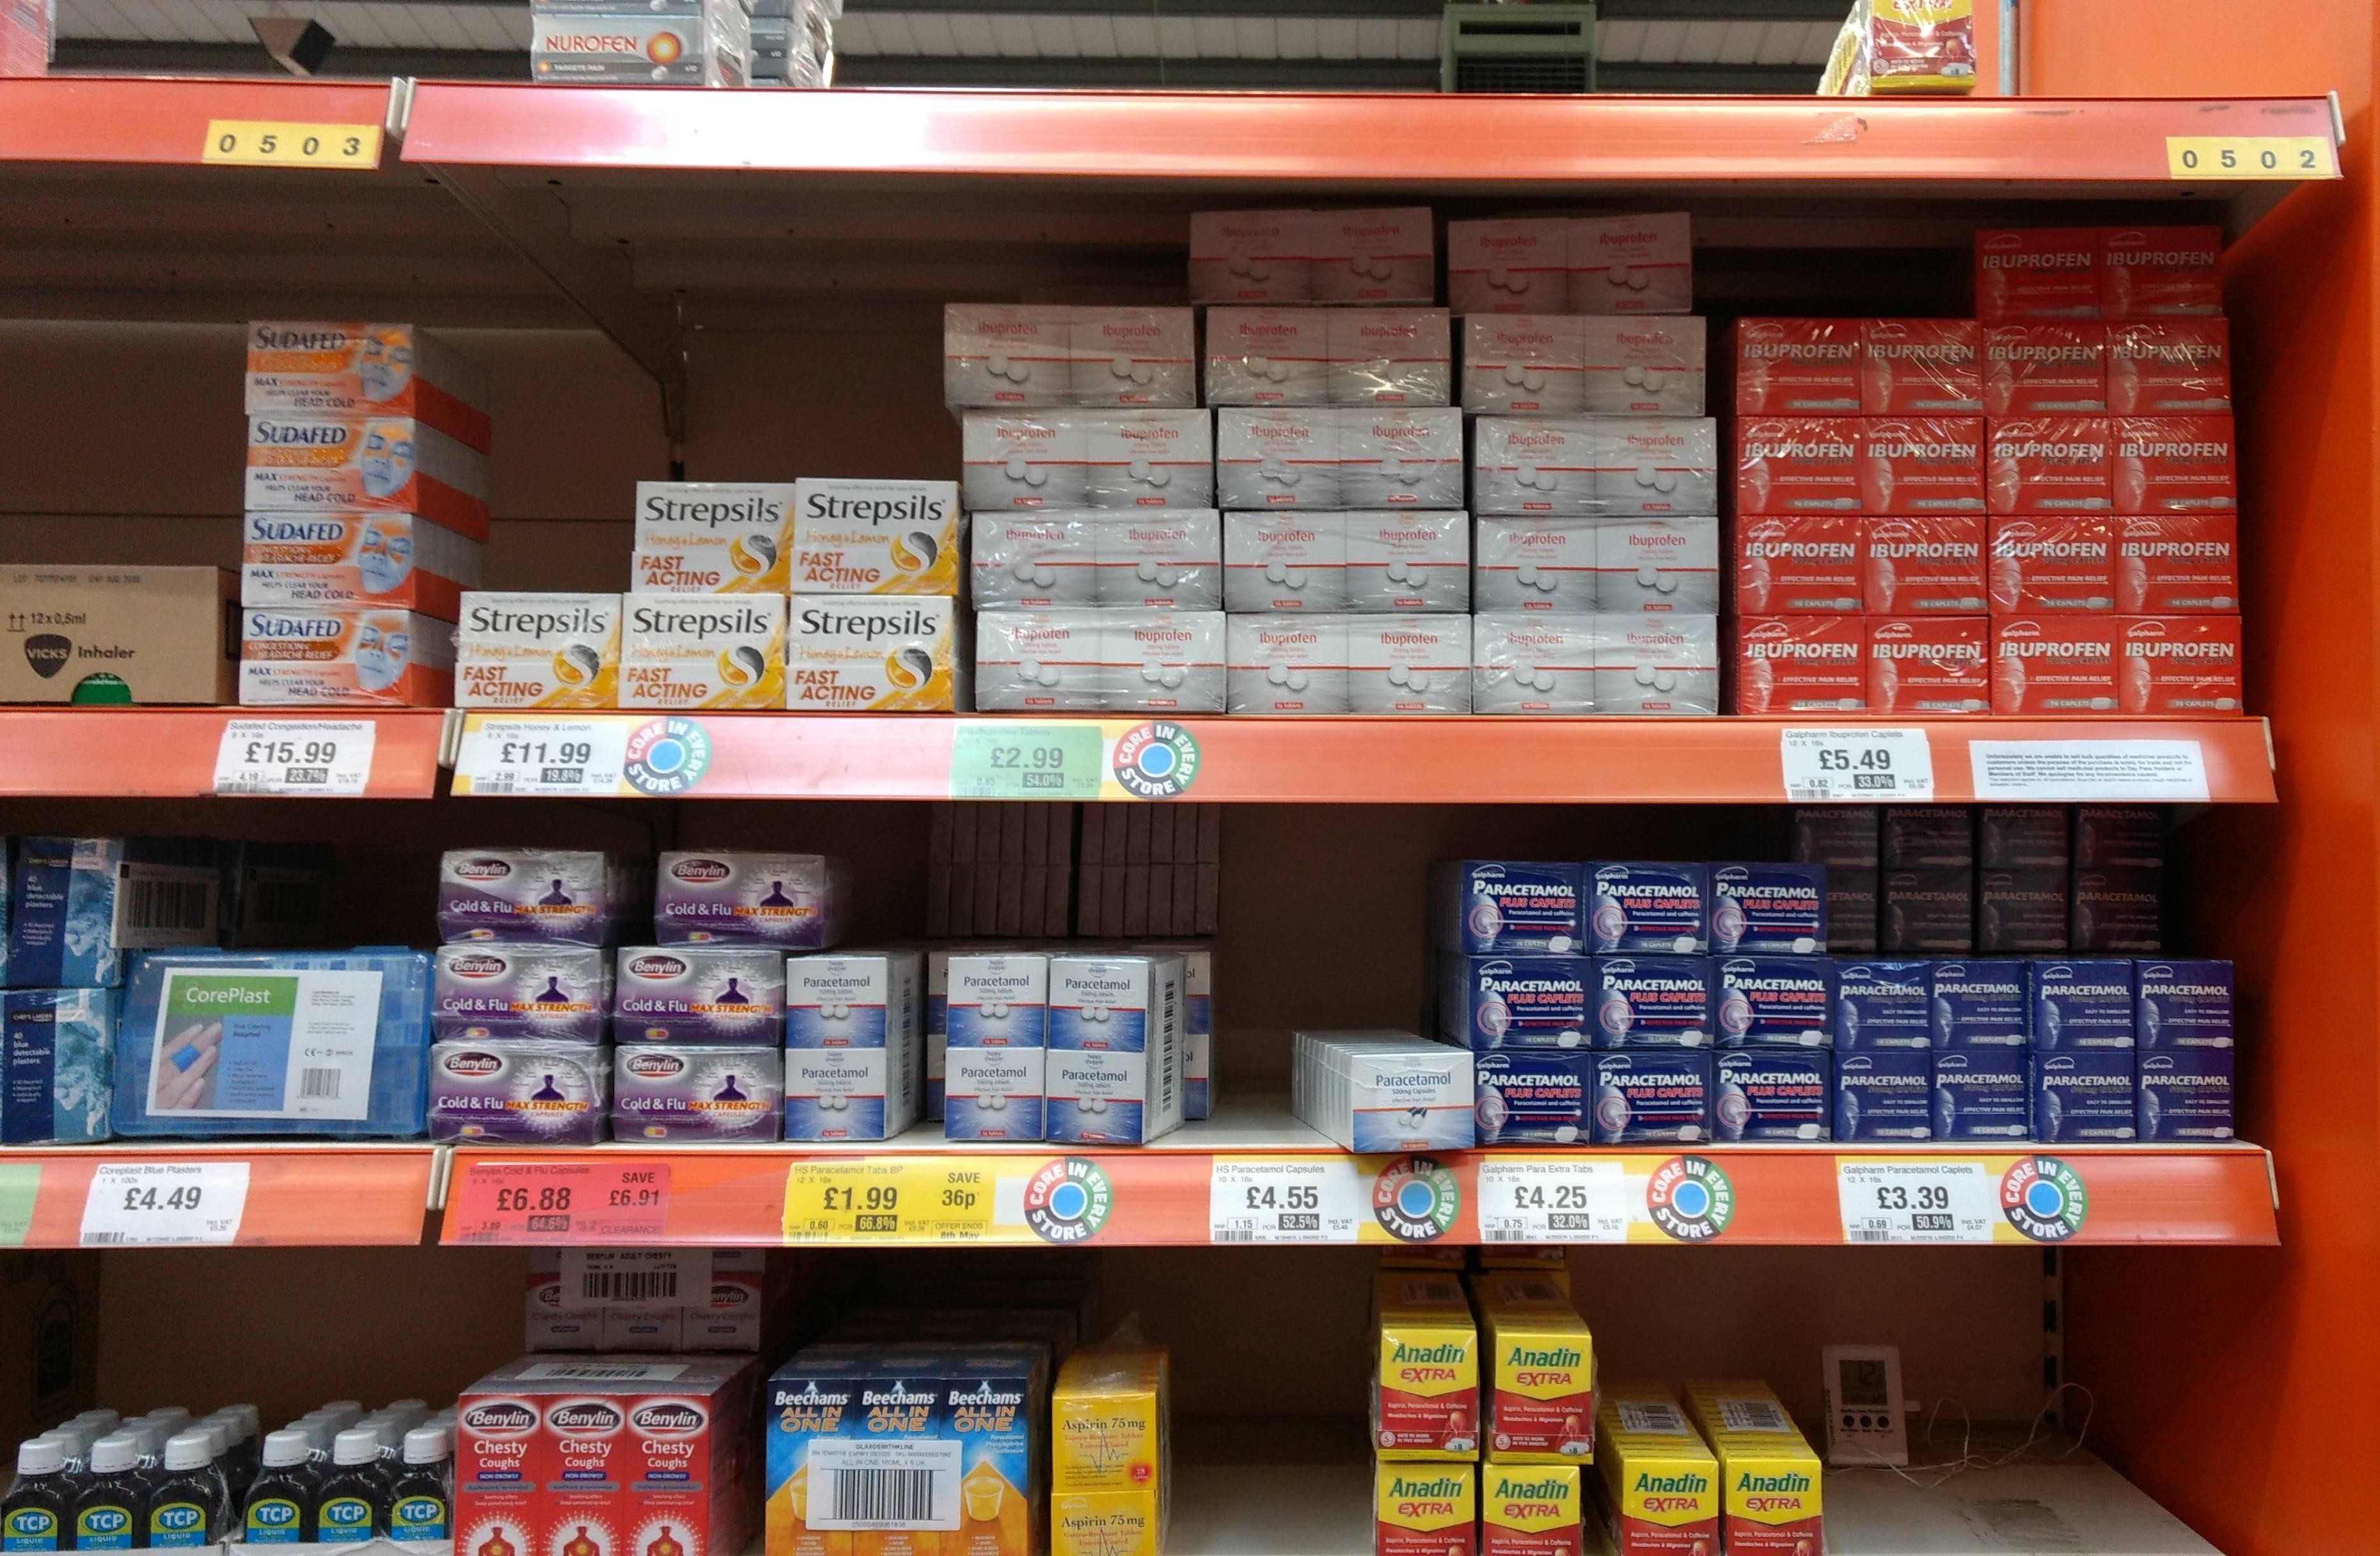empty: (1930, 1256, 2142, 1546), (1198, 1266, 1364, 1556)
misalignment: (937, 943, 1203, 1141), (1274, 1009, 1476, 1164)
